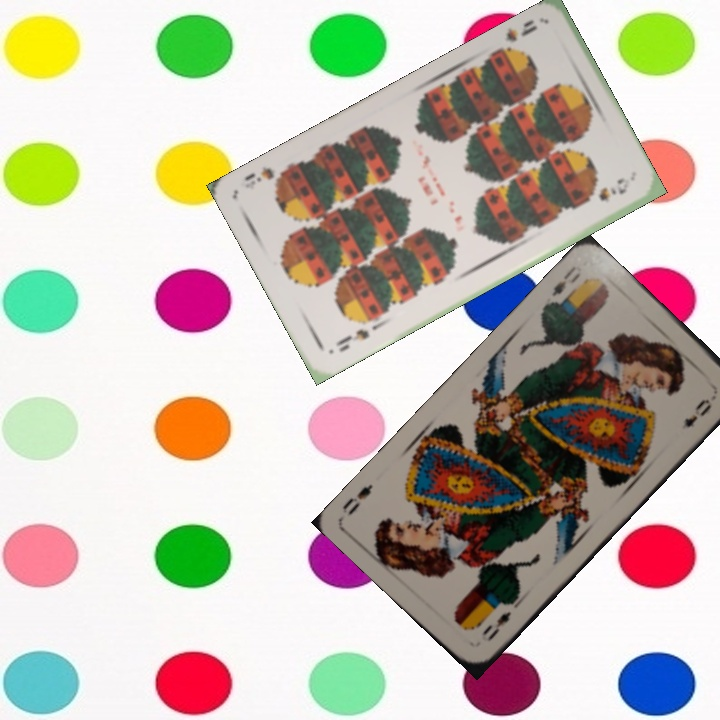EO: (547, 261, 585, 300), (478, 607, 514, 644)
S9: (492, 15, 540, 59), (331, 325, 372, 355)
